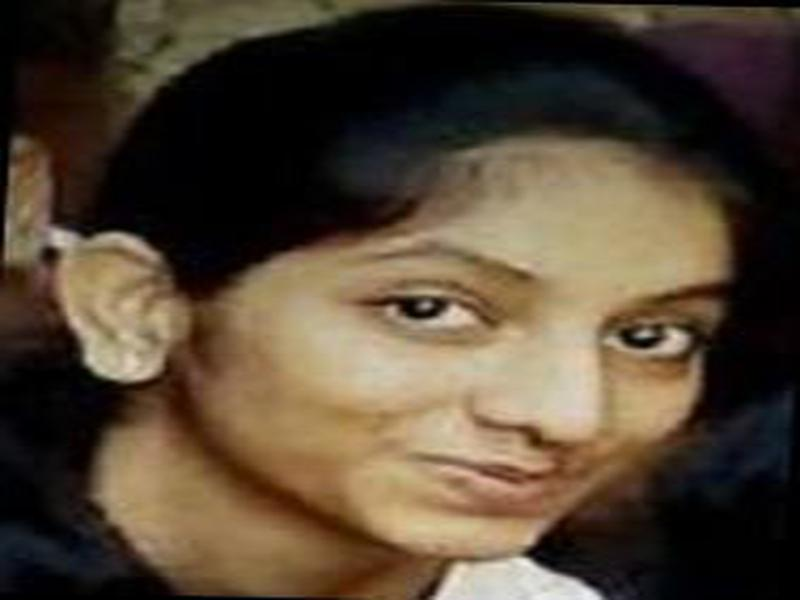without_mask: (191, 140, 733, 563)
